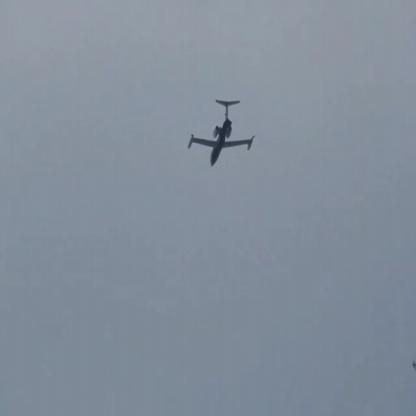CIV_Plane: (187, 94, 257, 168)
